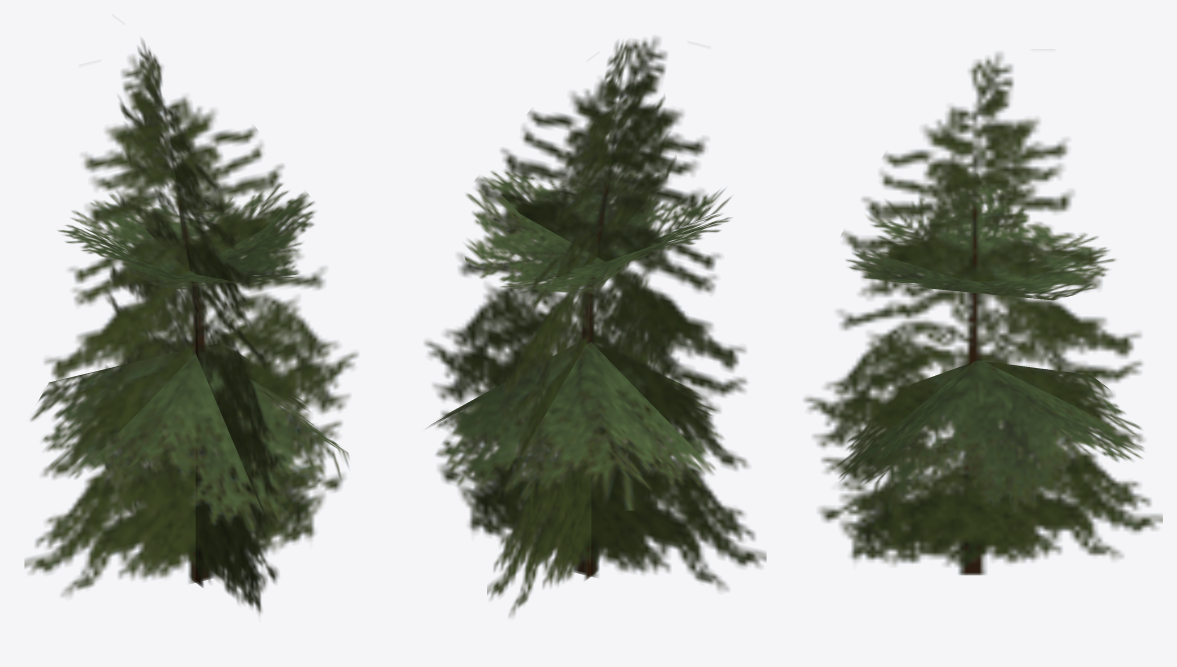
File: forest_shrub_1.glb
3 views of the same model, side by side, from view 1: azimuth 30°, elevation 25°; view 2: azimuth 150°, elevation 25°; view 3: azimuth 270°, elevation 25° (orthographic). The views are drawn at different scales.
Visible parts, largest first — view 1: Background_Tree_Atlas.009_Background_Tree_Atlas_0; view 2: Background_Tree_Atlas.009_Background_Tree_Atlas_0; view 3: Background_Tree_Atlas.009_Background_Tree_Atlas_0.
Part boxes in pixels (left/top/right/bottom): Background_Tree_Atlas.009_Background_Tree_Atlas_0: left=24, top=39, right=358, bottom=613; Background_Tree_Atlas.009_Background_Tree_Atlas_0: left=424, top=37, right=766, bottom=616; Background_Tree_Atlas.009_Background_Tree_Atlas_0: left=804, top=53, right=1162, bottom=575.
Size of the model in its own units: 1.81 by 2.75 by 1.81.
Materials: 1 (1 with a texture image).
